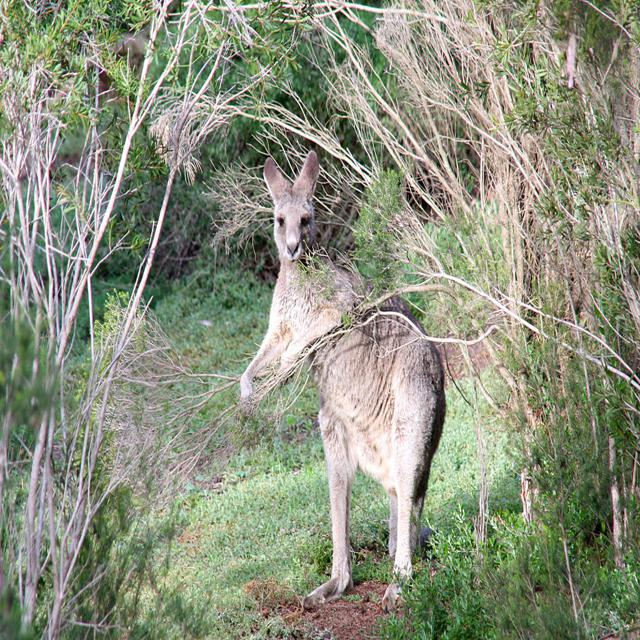kangaroo: (245, 149, 369, 361)
